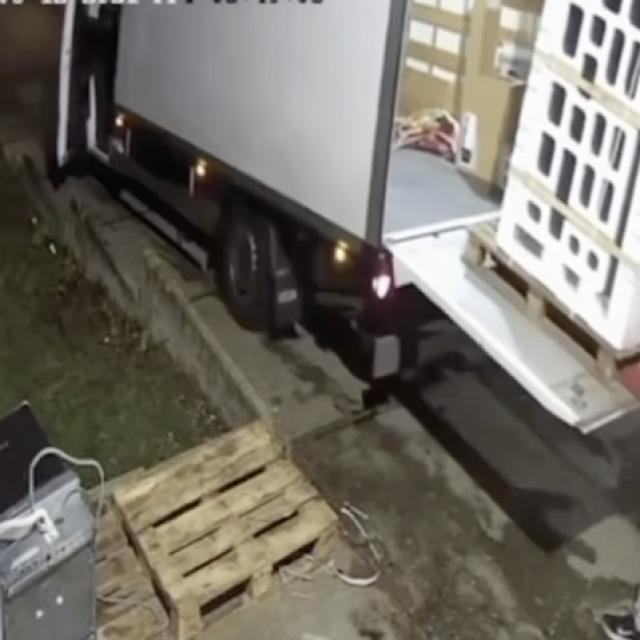person: (599, 587, 639, 639)
